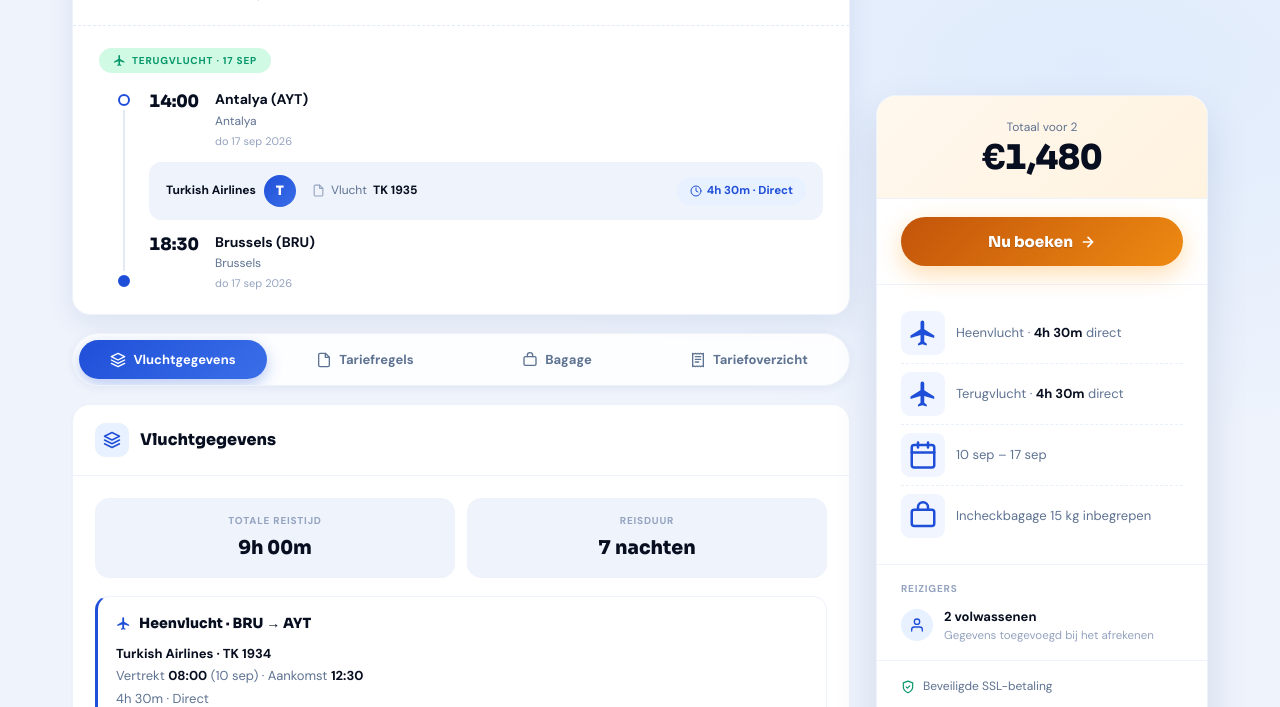
FlightDetail — the claims it makes › labels each half of the round trip by its own direction on the baggage tab
This screenshot has width=1280, height=707.
(page scrolled)
Step 1. Click the button "Bagage" → {"x": 557, "y": 360}, box [463,340,651,379]
(page scrolled)
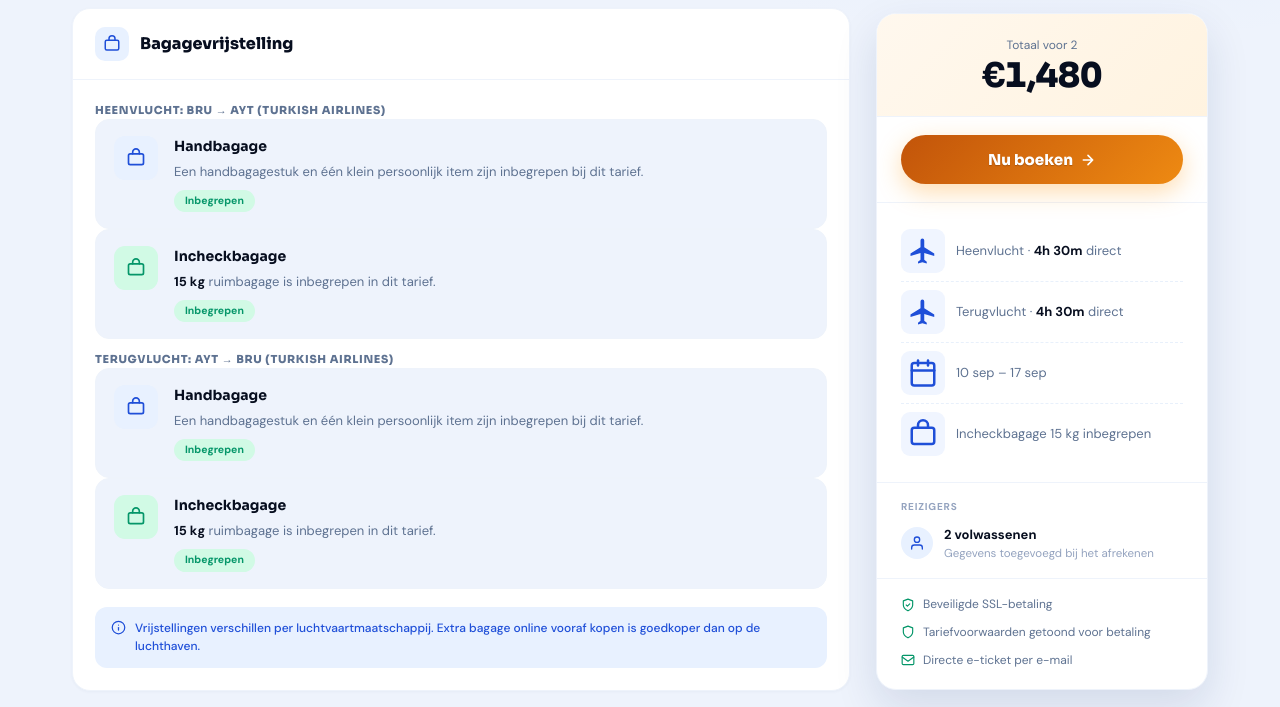
Check: the text "Heenvlucht: BRU → AYT (Turkish Airlines)" is shown, box [95,103,386,117]
Check: the text "Terugvlucht: AYT → BRU (Turkish Airlines)" is shown, box [95,352,394,366]
